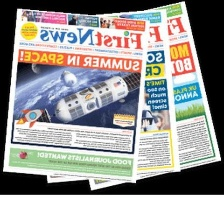news_paper: (77, 0, 223, 193), (0, 7, 150, 185), (41, 6, 184, 186)
